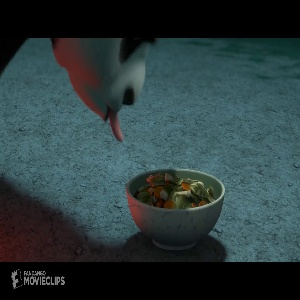po: (25, 32, 156, 144)
